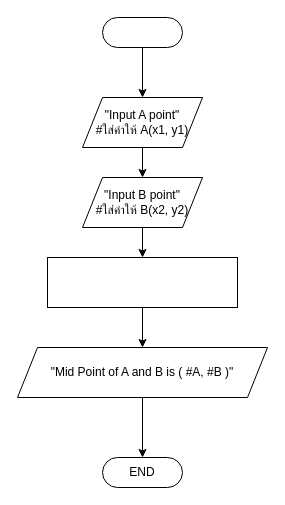
Image size: 285x505. Some labels were removed from this diagram. Each missing label, with the centre of its shape:
"(x1 + x2 ) / 2 = ใส่ในตัวแปร A (y1 + y2 ) / 2 = ใส่ในตัวแปร B" belongs at (142,282).
"START" belongs at (142,32).
